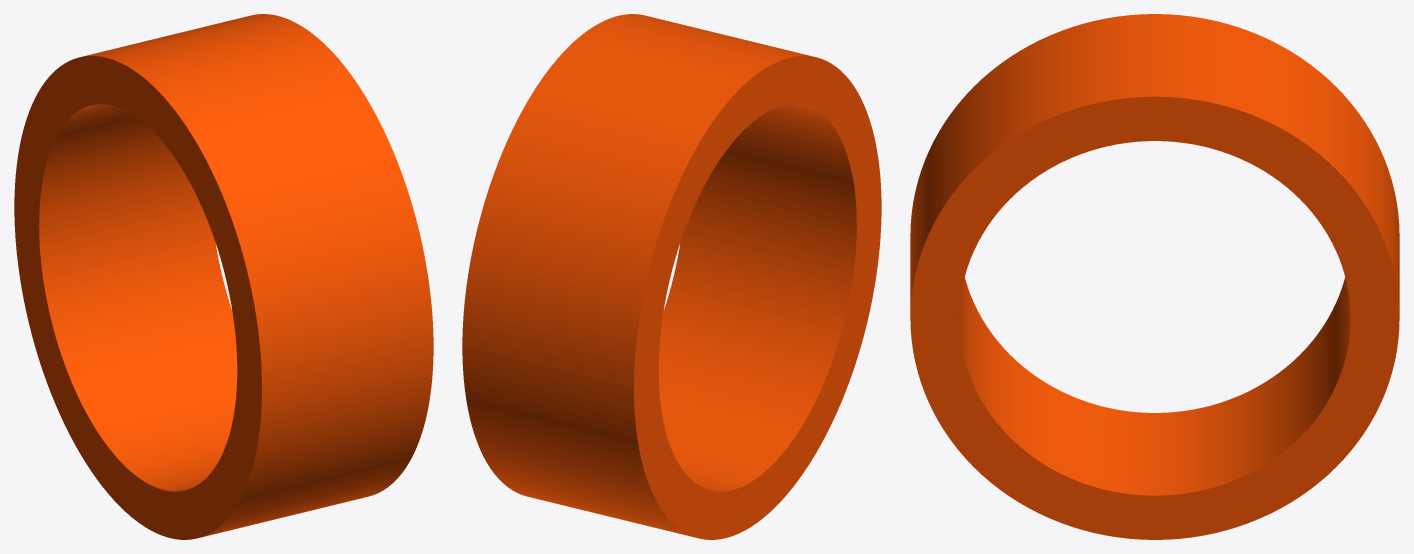
Rendered from SM_Tunnel_1151b5a3f7.glb.
3 renders of one model, left to right at view 1: azimuth 30°, elevation 25°; view 2: azimuth 150°, elevation 25°; view 3: azimuth 270°, elevation 25°, orthographic.
Parts seen in each view (by area): view 1: SM_Tunnel; view 2: SM_Tunnel; view 3: SM_Tunnel.
Part boxes in pixels (x1=…): SM_Tunnel: x1=14, y1=14, x2=433, y2=539; SM_Tunnel: x1=462, y1=14, x2=881, y2=539; SM_Tunnel: x1=910, y1=14, x2=1399, y2=539.
Size of the model in its own units: 10 by 25 by 25.
